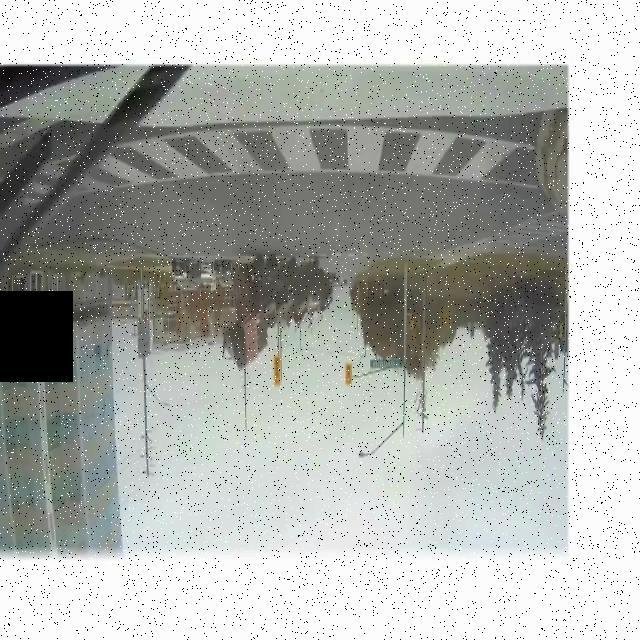severe: (222, 250, 336, 370)
